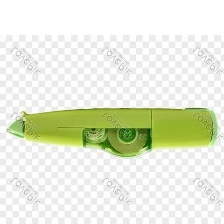correction_fluid: (3, 105, 218, 159)
